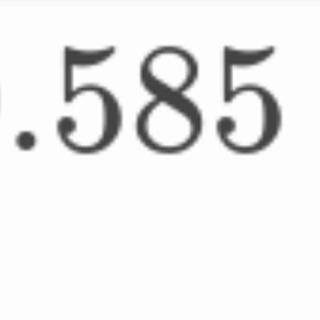.: (11, 121, 42, 155)
5: (46, 33, 127, 156), (210, 35, 288, 158)
8: (128, 35, 210, 158)
